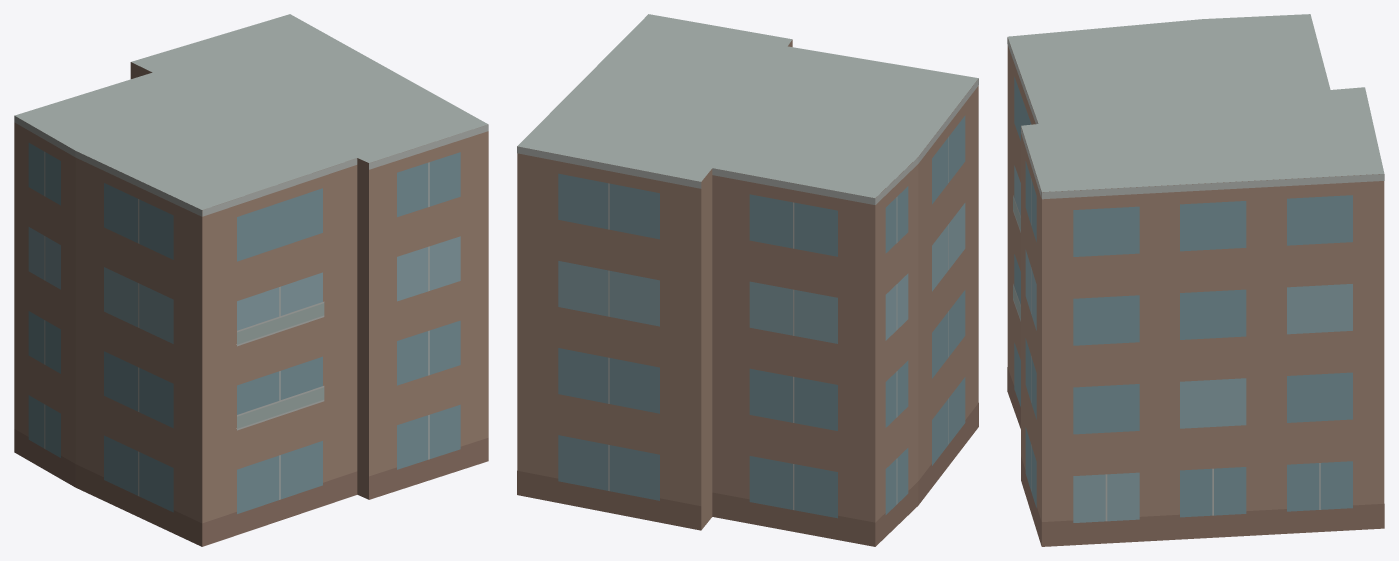
Rendered from survey-upis-32676069.glb.
3 views of the same model, side by side, from view 1: azimuth 30°, elevation 25°; view 2: azimuth 150°, elevation 25°; view 3: azimuth 270°, elevation 25° (orthographic). The views are drawn at different scales.
Visible parts, largest first — view 1: survey-upis-32676069.tmp; view 2: survey-upis-32676069.tmp; view 3: survey-upis-32676069.tmp.
Boxes of the visible parts, x1,y1,x2,y2 form: survey-upis-32676069.tmp: [14, 14, 488, 546]; survey-upis-32676069.tmp: [517, 14, 978, 546]; survey-upis-32676069.tmp: [1007, 14, 1384, 546].
Bounding box in the file's own units: 13.15 × 12.2 × 11.76.
